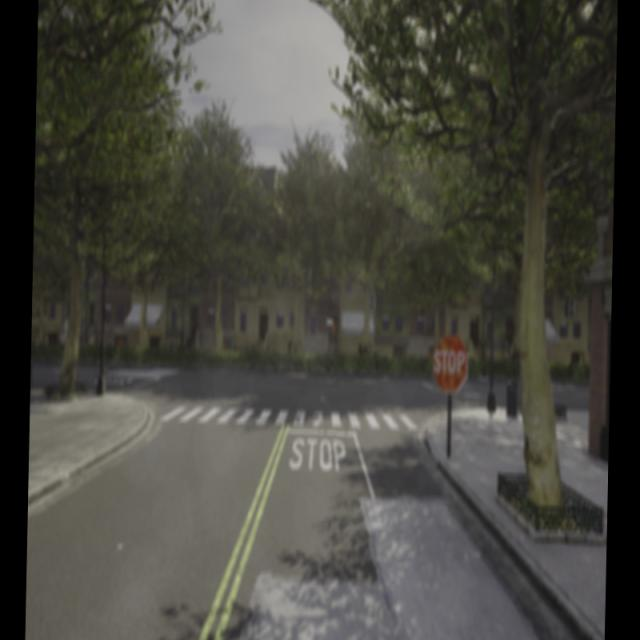stop sign: (430, 332, 470, 396), (432, 346, 466, 376)
